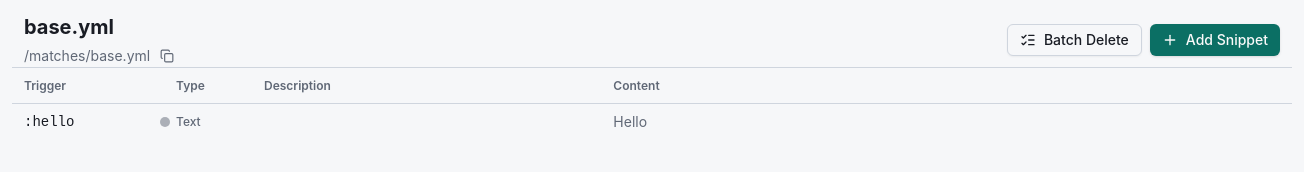
it: EspansoConfigDetail › exits batch delete mode when Escape is pressed
Click the button "Batch Delete".
click(1074, 40)  # box [1007,24,1142,56]
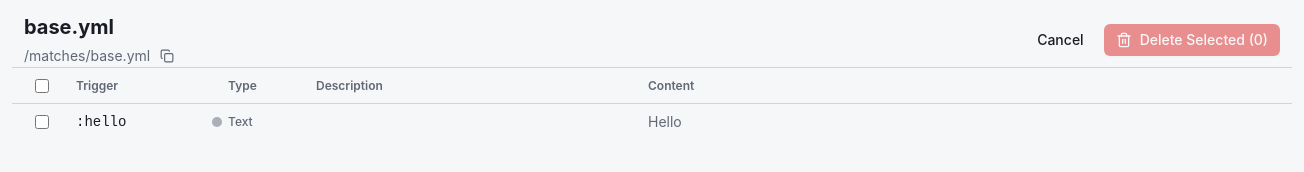
Expected: the button "Cancel" is shown, [1025,24,1096,56]
Press Escape
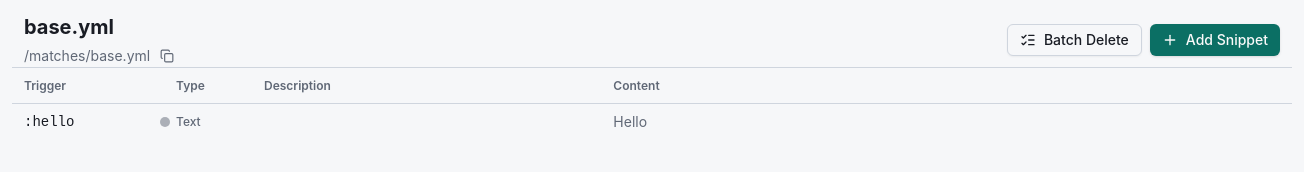
Expected: the button "Cancel" is gone
Expected: the button "Batch Delete" is shown, [1007,24,1142,56]
